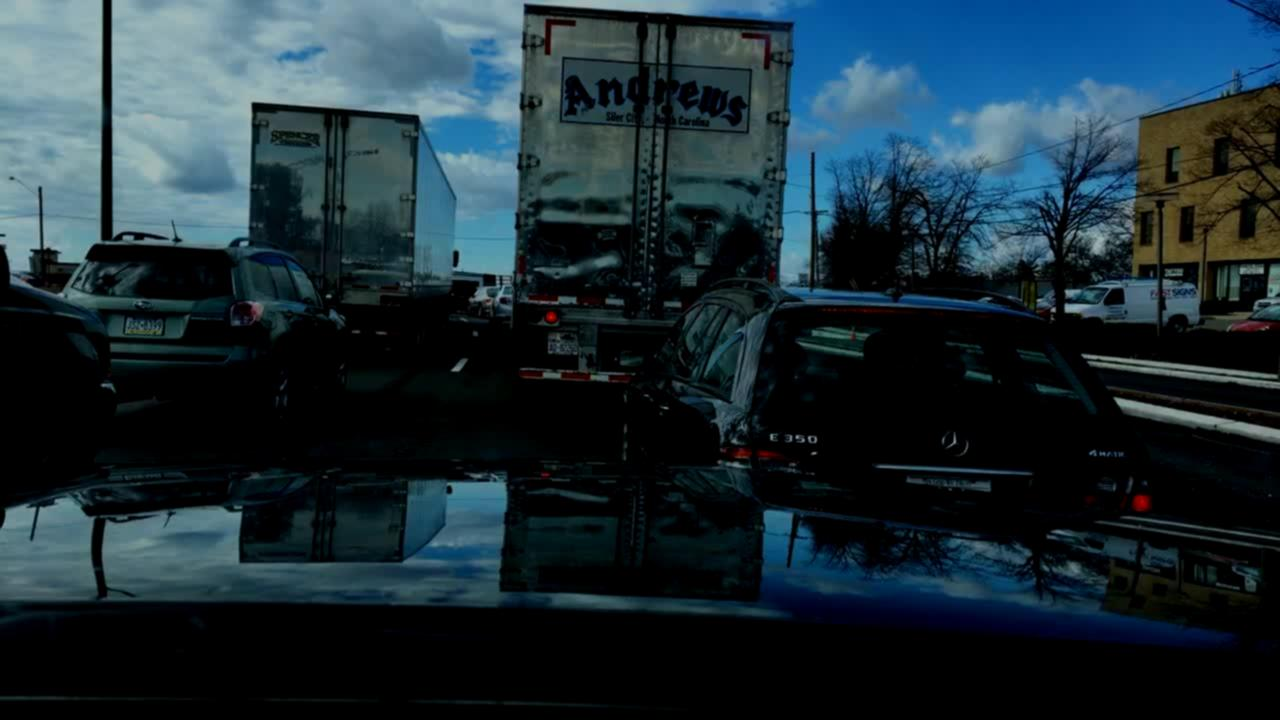Mercedes: (932, 422, 980, 469)
